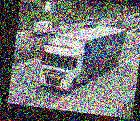van: (86, 16, 100, 26)
